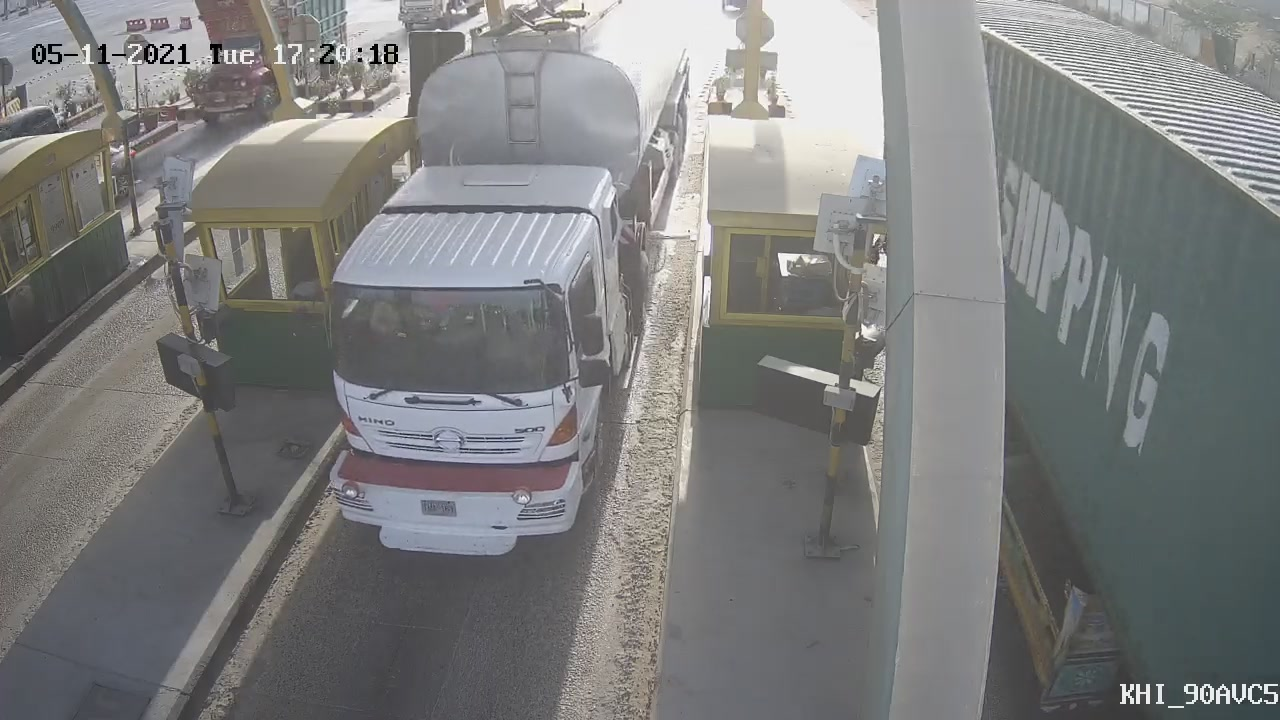F6: (276, 3, 704, 577)
